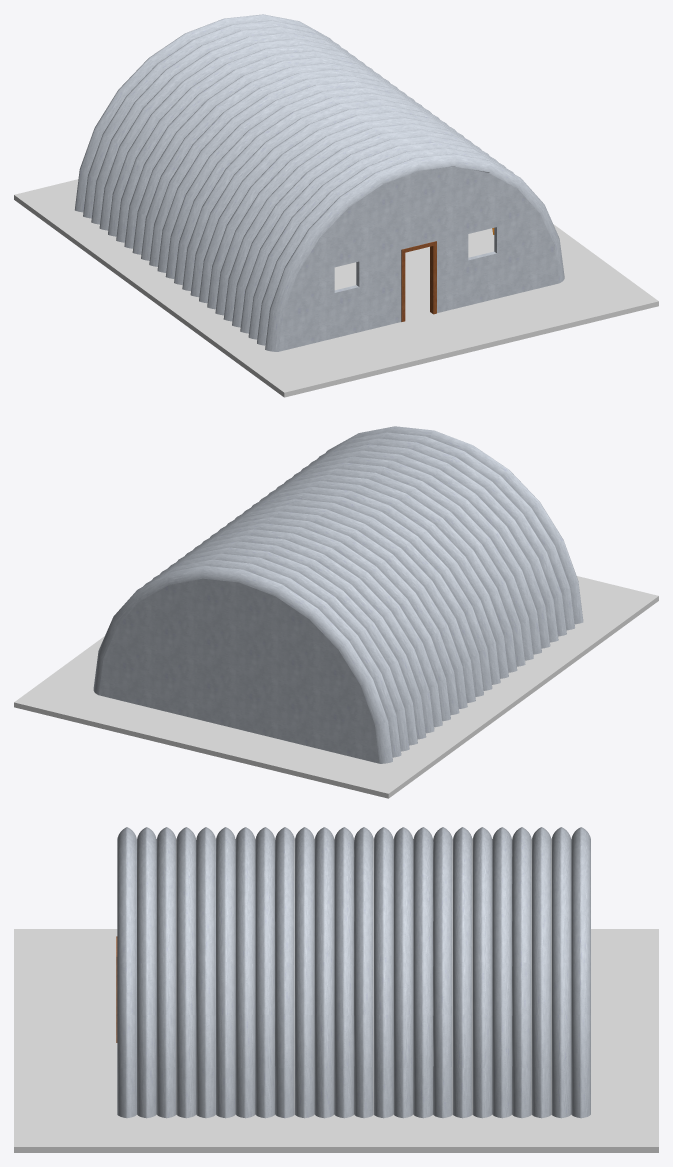
Rendered from garaz.glb.
The picture shows the model from 3 angles, top to bottom: view 1: azimuth 30°, elevation 25°; view 2: azimuth 150°, elevation 25°; view 3: azimuth 270°, elevation 25°; orthographic projection. The views are drawn at different scales.
Visible parts, largest first — view 1: C-My Radius House; view 2: C-My Radius House; view 3: C-My Radius House.
Boxes of the visible parts, x1,y1,x2,y2 form: C-My Radius House: (14, 14, 658, 397); C-My Radius House: (14, 426, 658, 798); C-My Radius House: (14, 827, 658, 1152).
Bounding box in the file's own units: 12.19 × 5.03 × 15.24.
4 materials, 2 textured.
